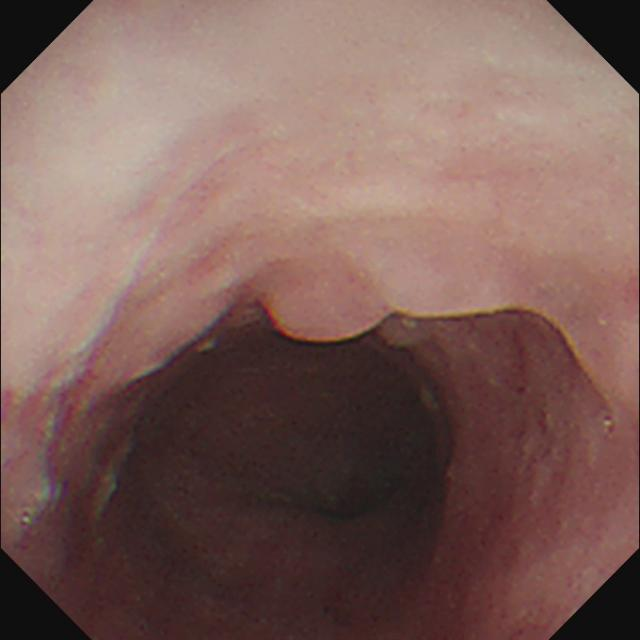A: (257, 259, 393, 364)
E: (317, 463, 414, 532)
